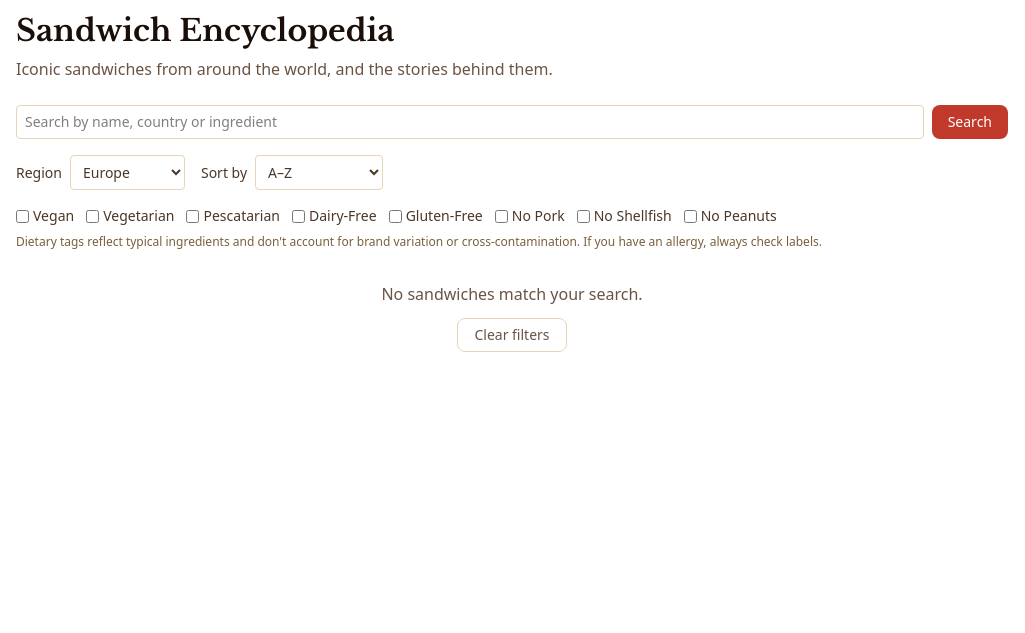
Test case: SandwichIndex search and filters › clears filters from the empty state
Check: the text "No sandwiches match your search." is shown, box [381,283,643,305]
What coordinates should you click on to do the following:
click the button "Clear filters"
I would click on:
 (512, 335)
Its box is [457,318,566,352].
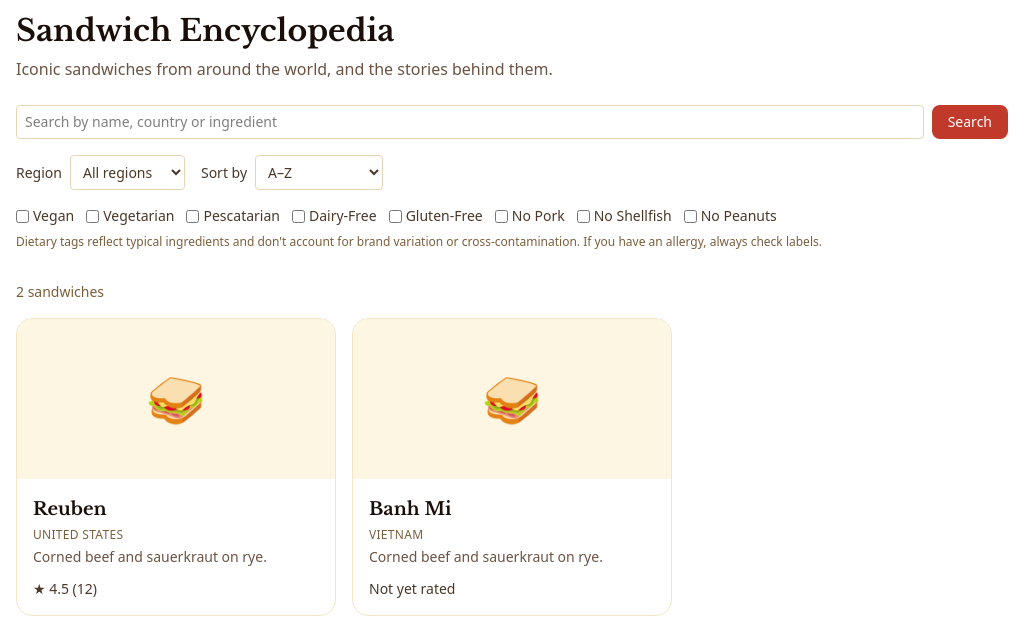
Check: the heading "Reuben" is shown, box [33,498,107,520]
Check: the dropdown labelled "Region" shows "All regions", box [70,155,185,190]
